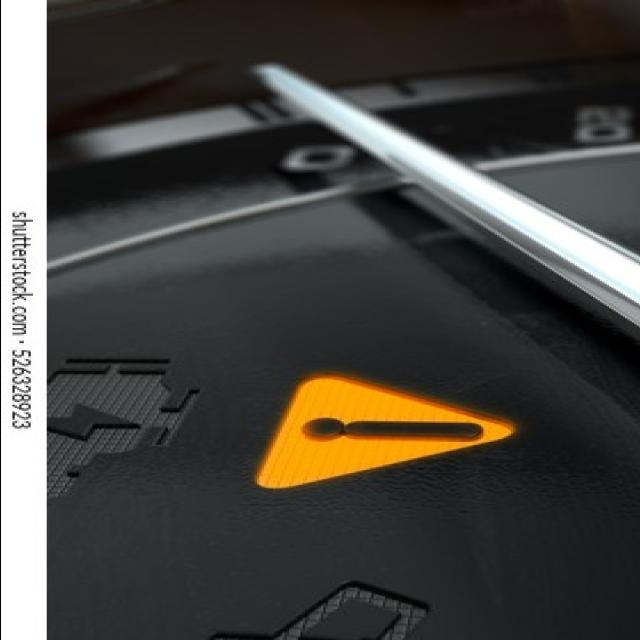Master warning light: (240, 367, 524, 495)
